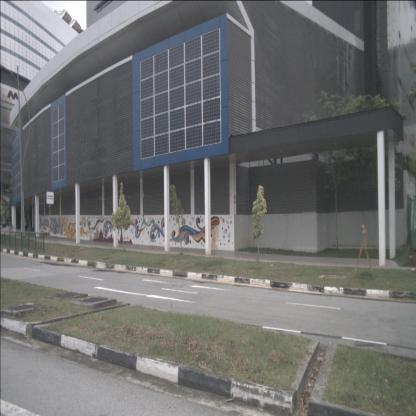vehicle-bicycle: (10, 222, 15, 236)
